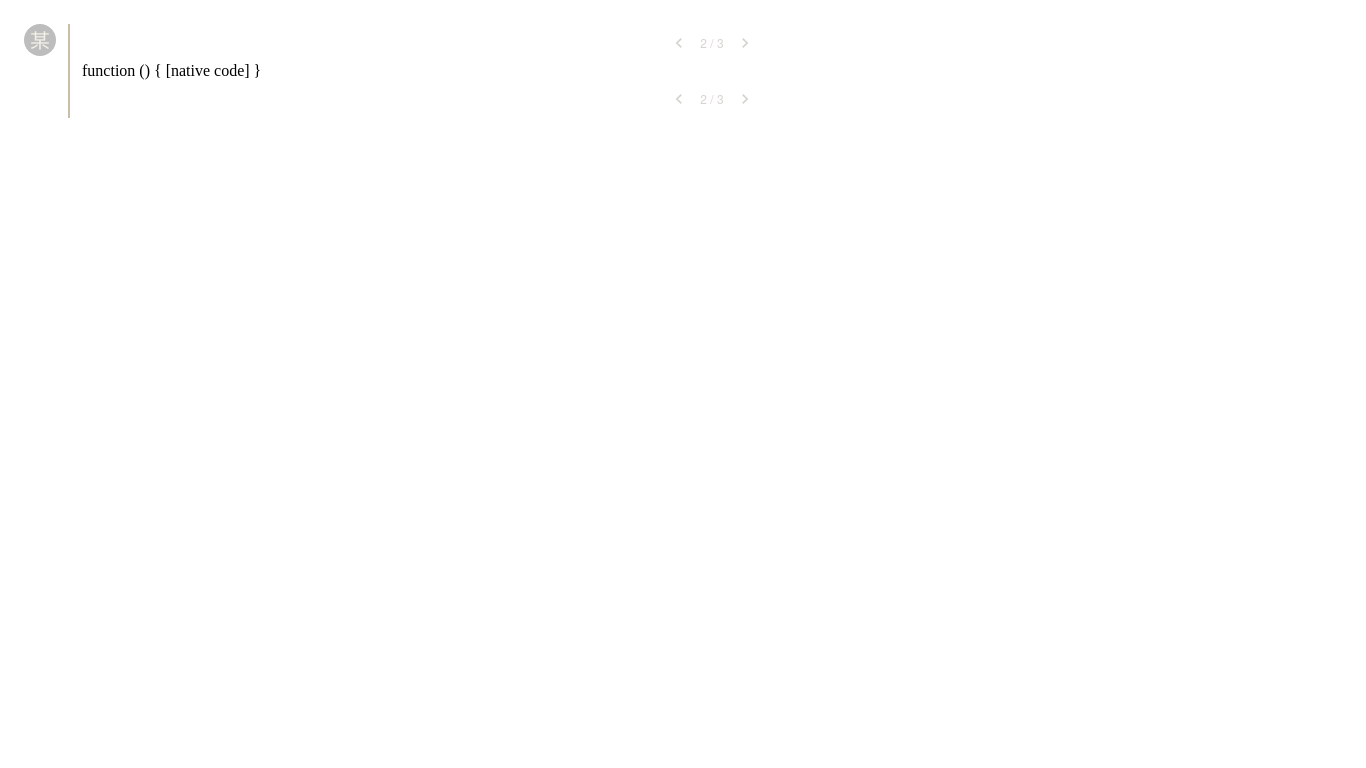
Test: SwipeBar › 點計數器會打開候選清單層，而且三個候選都在裡面
Click the button named "全部 3 個候選（訊息下方）" at coordinates (712, 99), box [694, 87, 730, 111]
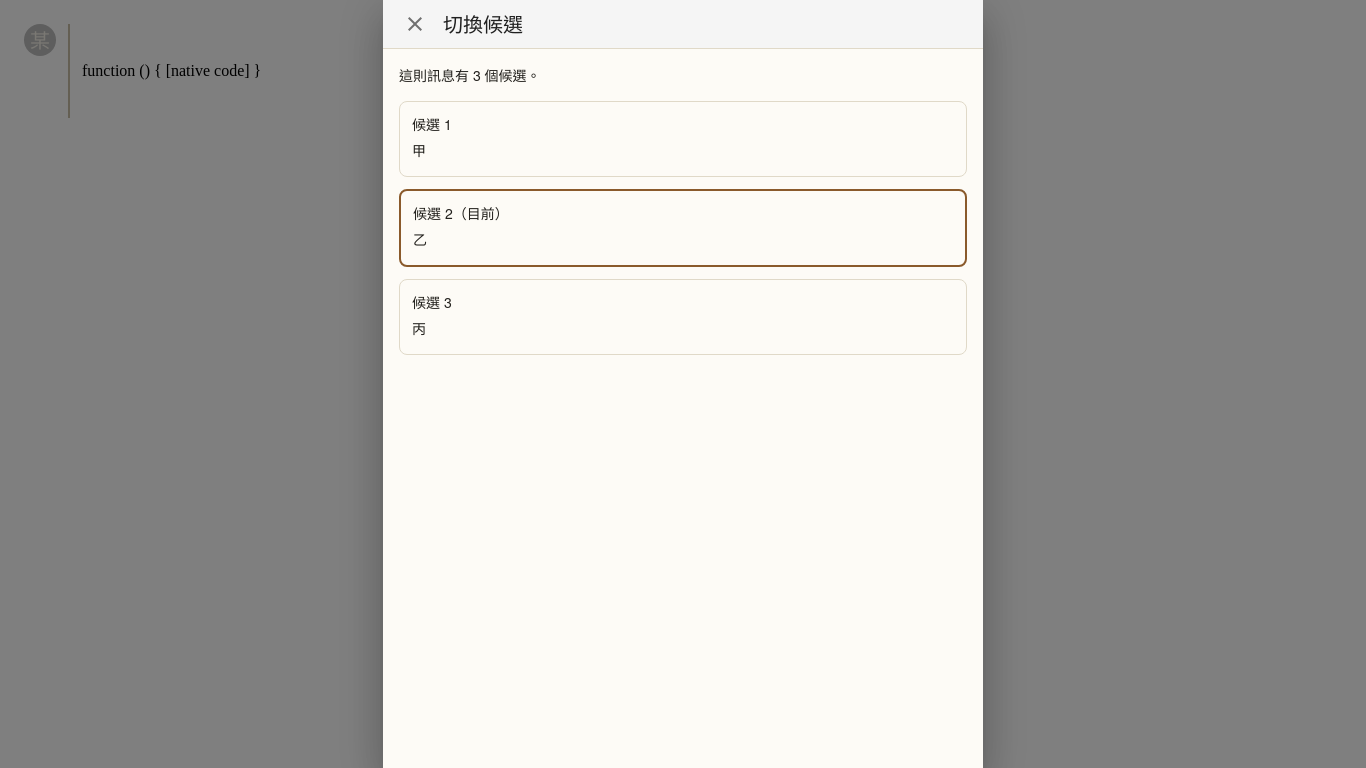
Expected: the heading "切換候選" is shown, [443, 9, 523, 38]
Expected: the text "甲" is shown, [412, 140, 426, 160]
Expected: the text "乙" is shown, [413, 229, 427, 249]
